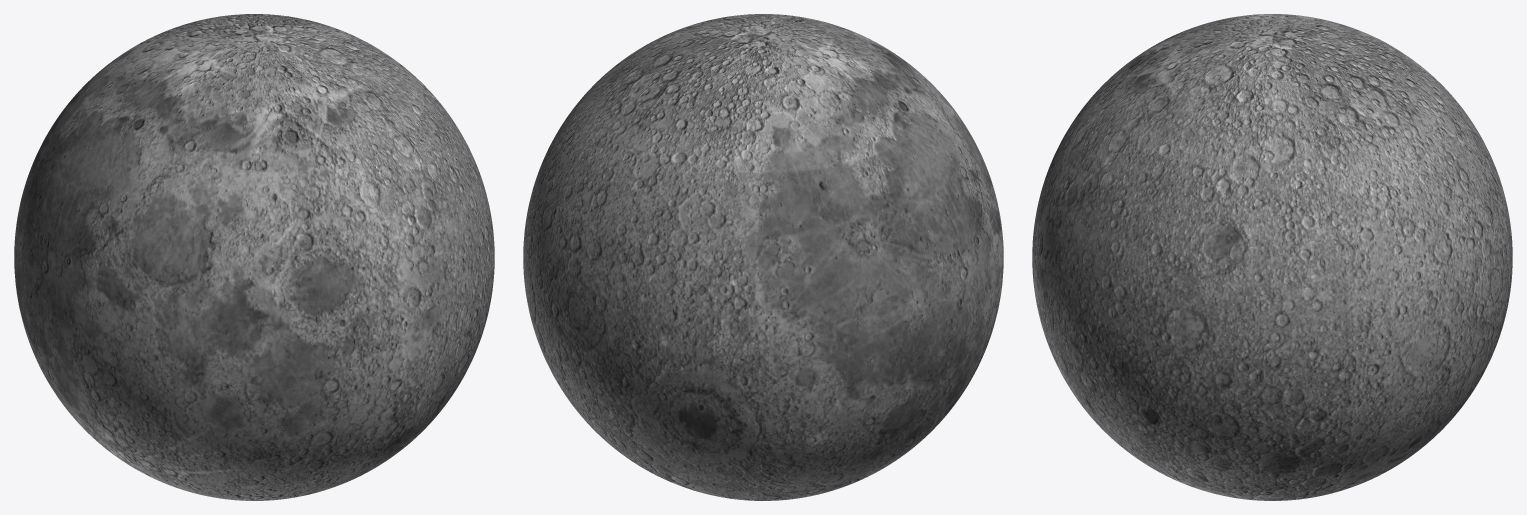
The model's file is newmoon.glb.
The picture shows the model from 3 angles, left to right: view 1: azimuth 30°, elevation 25°; view 2: azimuth 150°, elevation 25°; view 3: azimuth 270°, elevation 25°; orthographic projection.
Visible parts, largest first — view 1: pSphere1; view 2: pSphere1; view 3: pSphere1.
Part boxes in pixels (x1,y1,x2,y2): pSphere1: [14, 14, 494, 500]; pSphere1: [523, 14, 1003, 500]; pSphere1: [1032, 14, 1512, 500].
Bounding box in the file's own units: 0.158 × 0.1609 × 0.158.
Materials: 1 (1 with a texture image).
